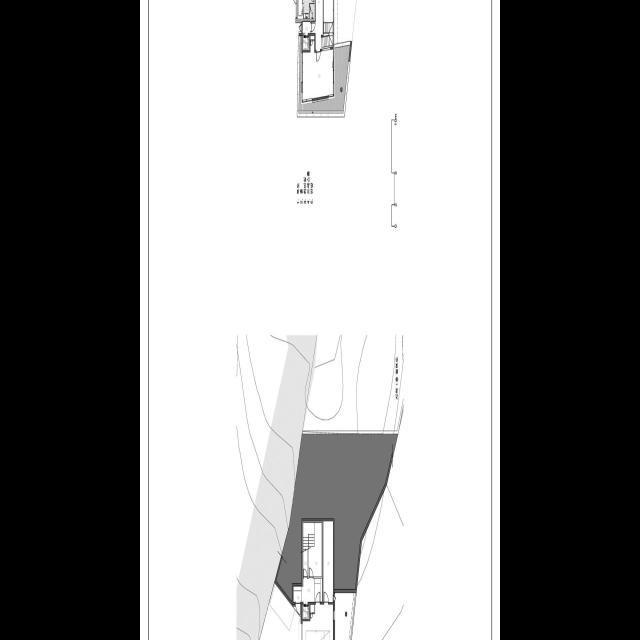background: (140, 0, 500, 640)
space_elevator: (303, 35, 309, 49)
space_elevator_hall: (303, 21, 310, 33)
space_front: (293, 585, 302, 601)
space_other: (303, 40, 333, 99), (303, 604, 333, 640), (323, 520, 333, 602), (309, 521, 322, 576), (311, 0, 323, 49), (302, 577, 322, 604), (323, 0, 333, 22), (303, 548, 308, 576), (303, 604, 309, 618), (310, 604, 314, 612)
space_staircase: (321, 22, 333, 48), (303, 521, 314, 548)
space_toilet: (297, 0, 314, 18), (310, 3, 314, 18)
